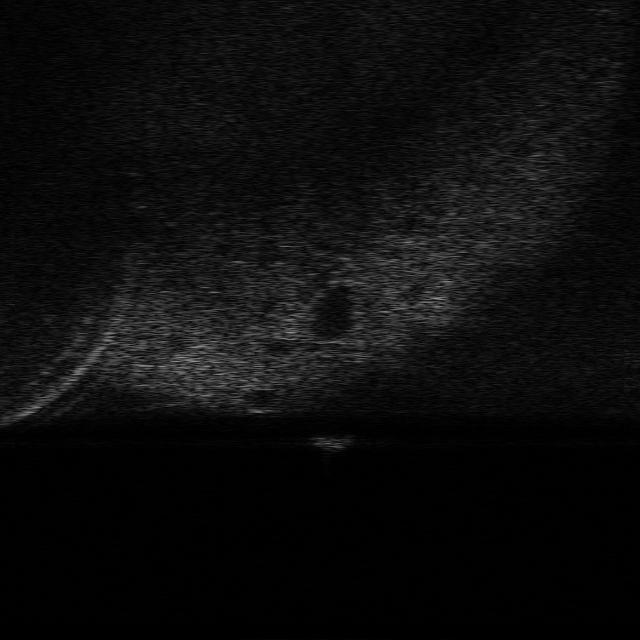cube: (309, 432, 359, 452)
